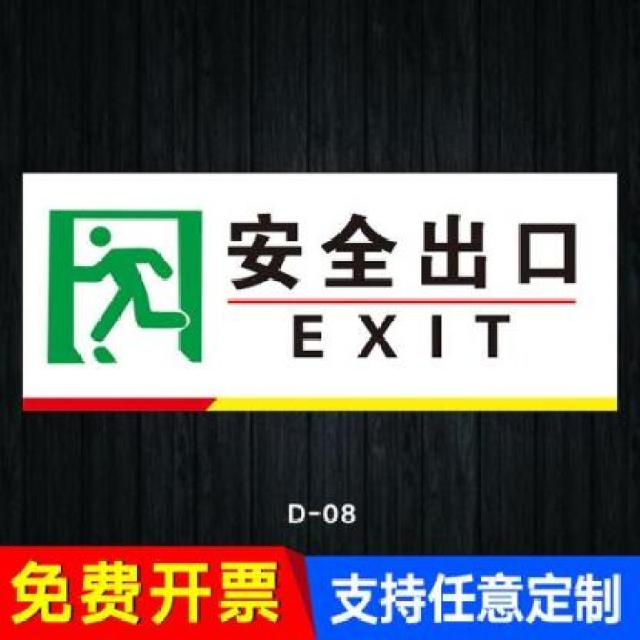exit_sign: (28, 168, 617, 404)
